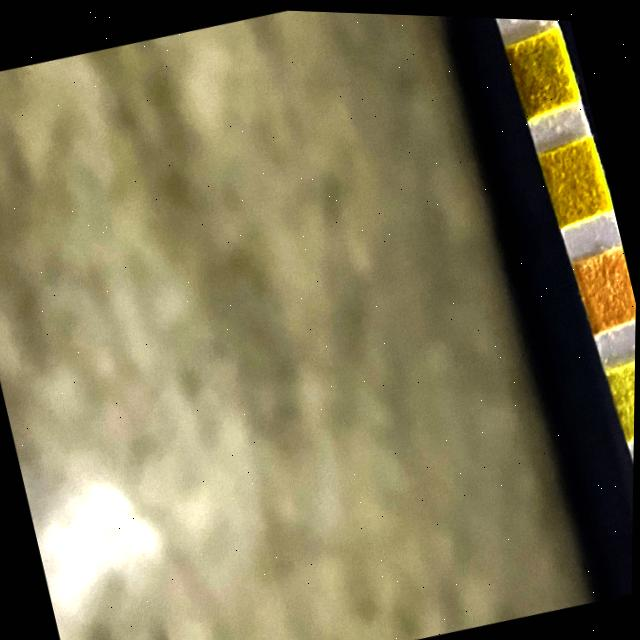Blood: (543, 141, 610, 216)
Protein: (610, 357, 636, 430)
SpGravity: (508, 31, 576, 106)
pH: (576, 251, 637, 323)
